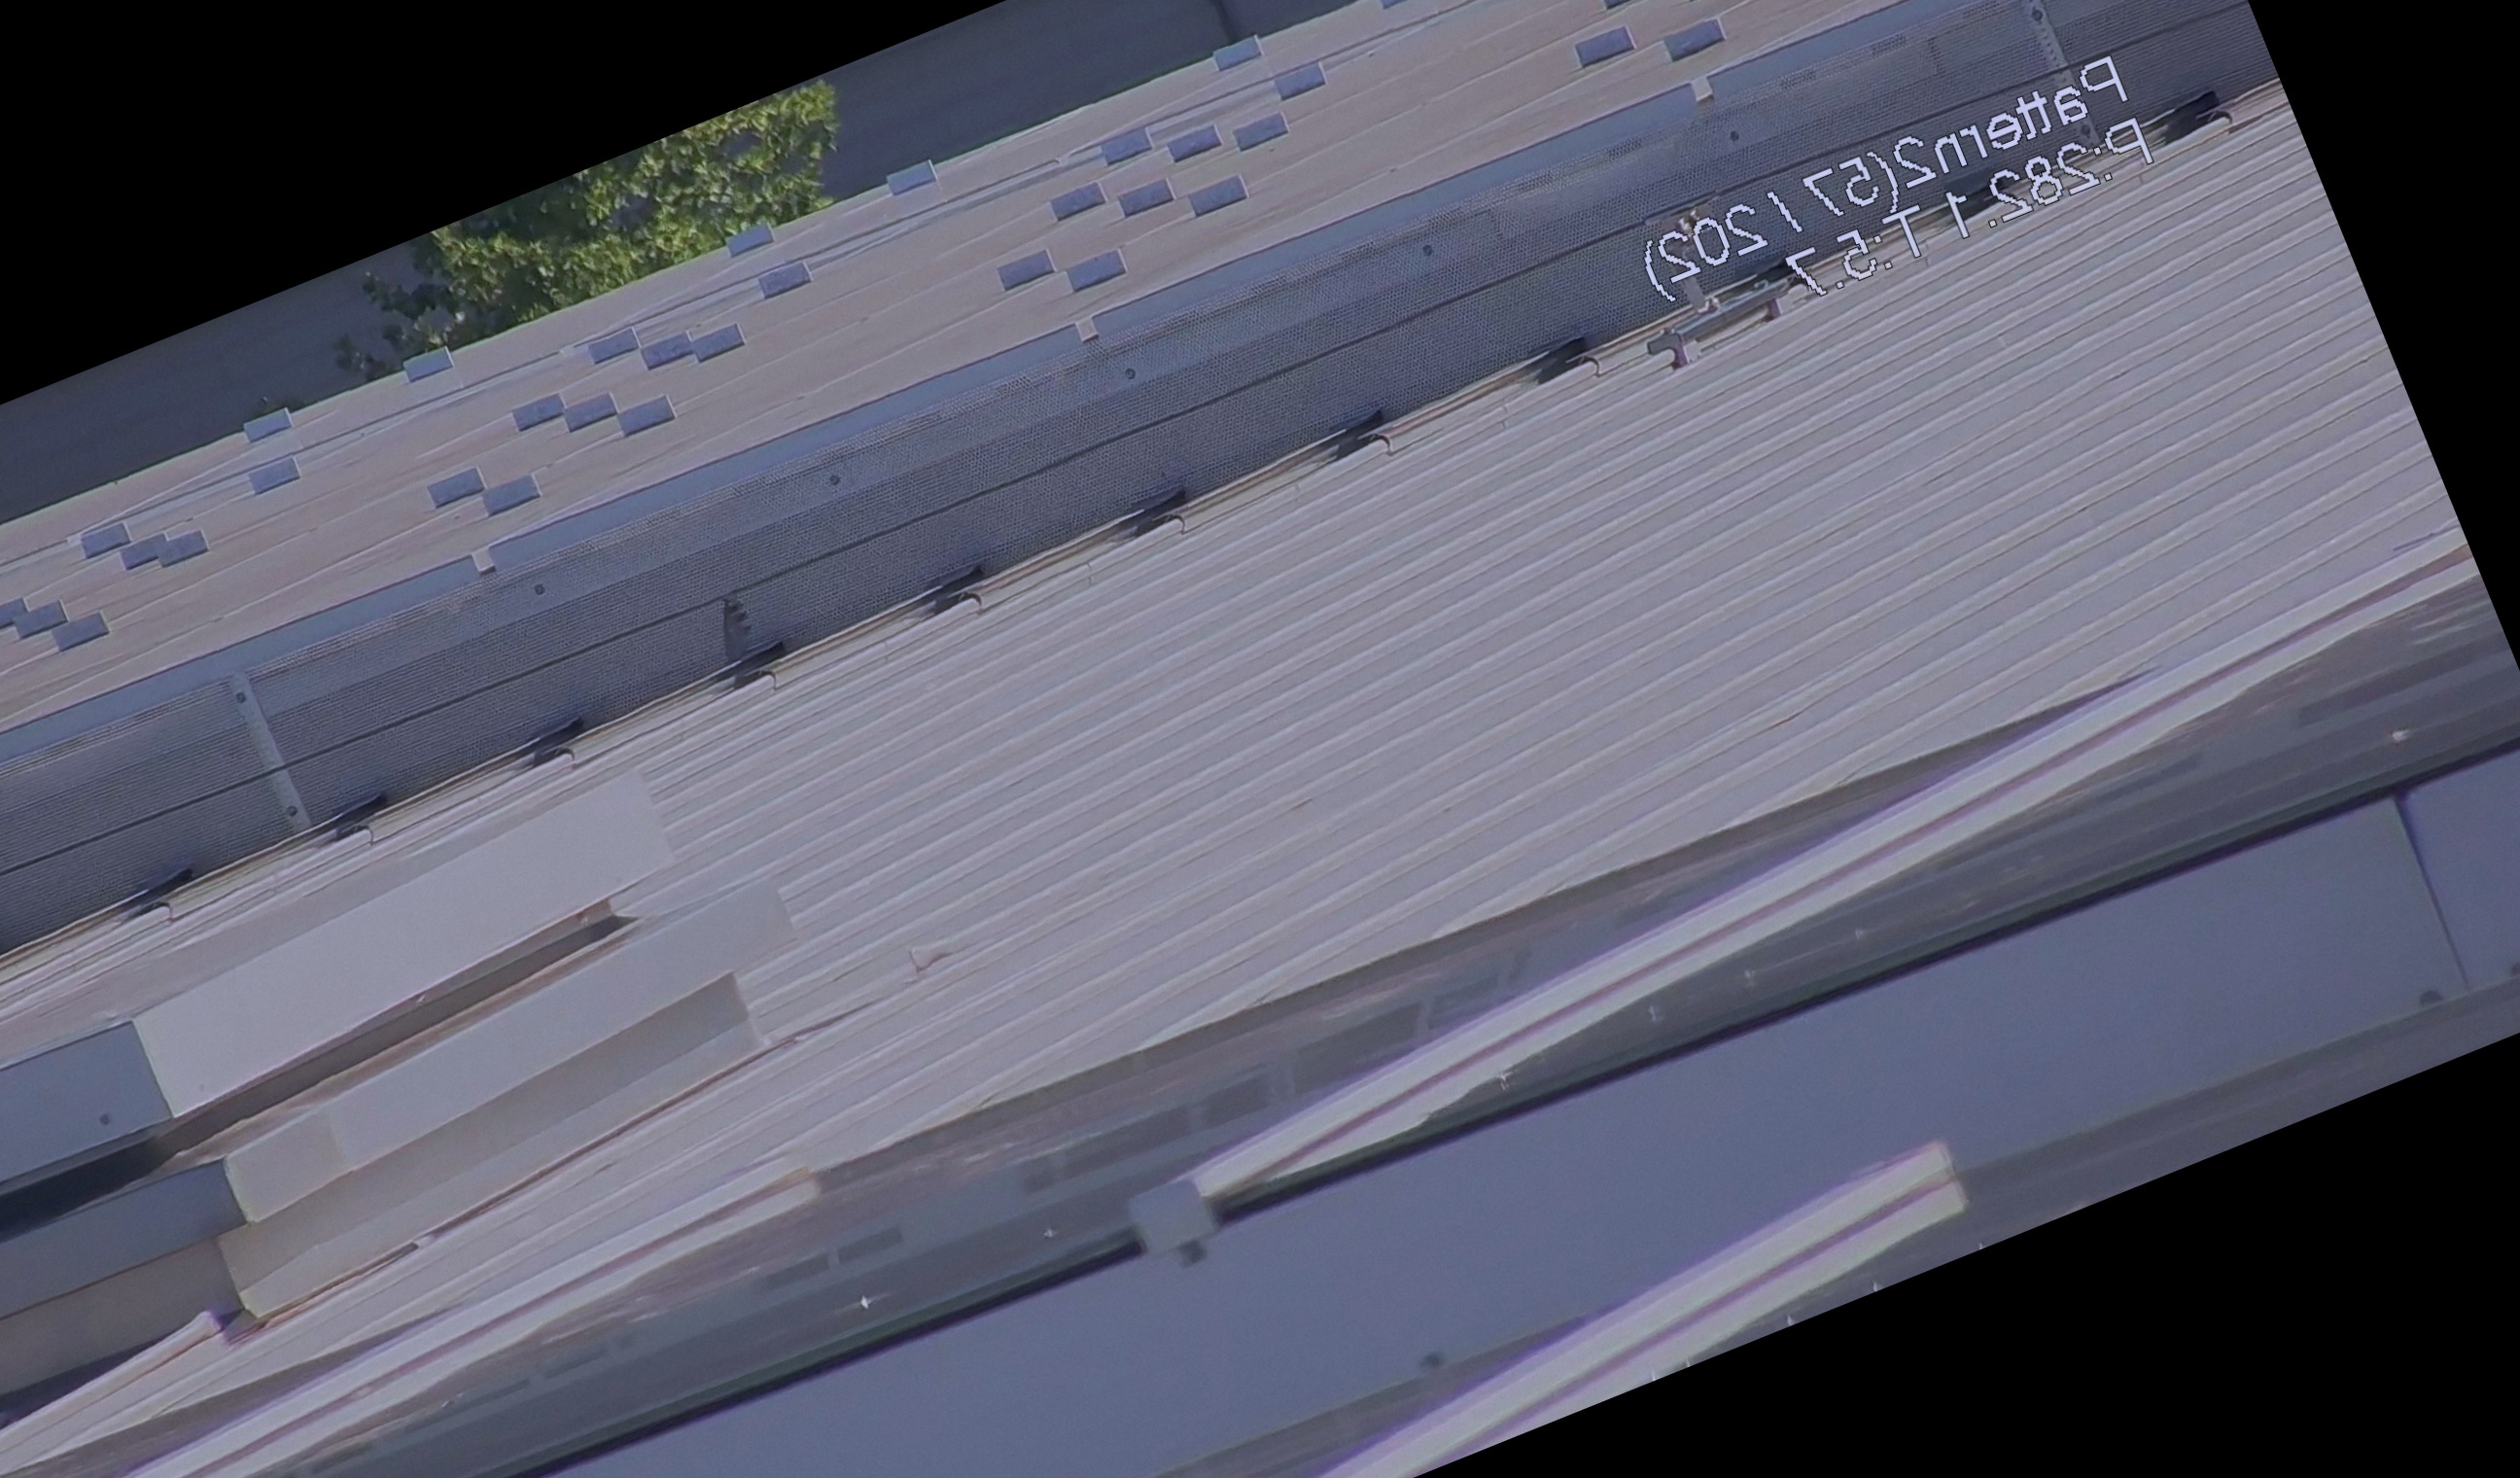Other: (677, 565, 795, 700)
